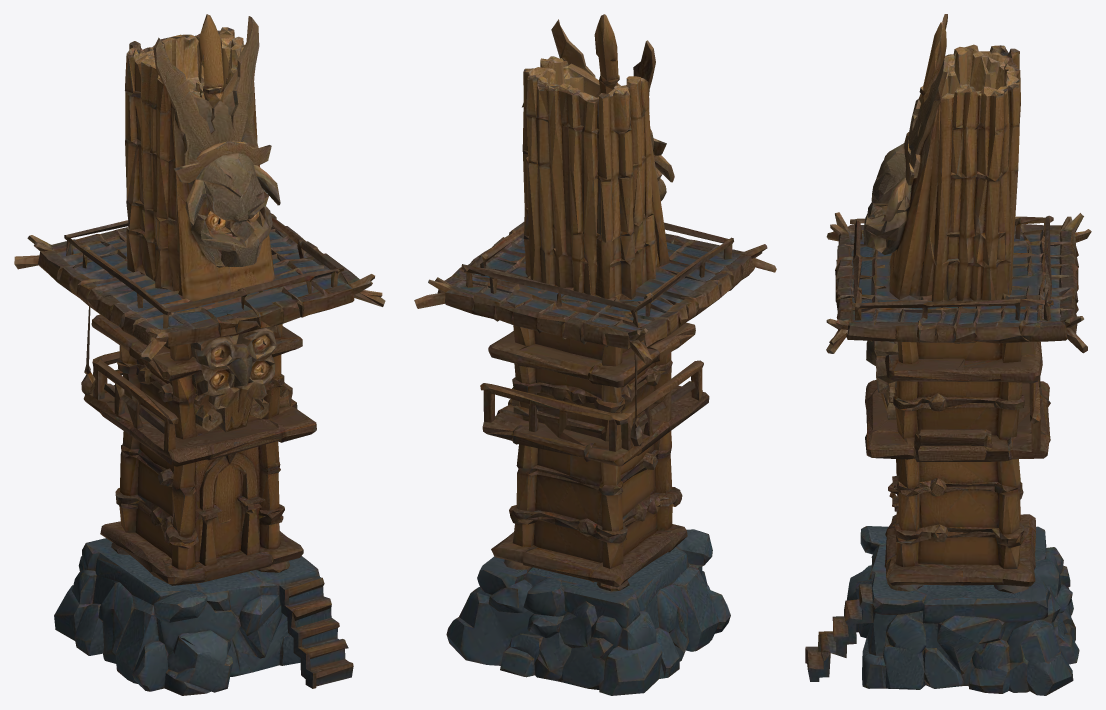
Rendered from watchtower.glb.
The picture shows the model from 3 angles, left to right: view 1: azimuth 30°, elevation 25°; view 2: azimuth 150°, elevation 25°; view 3: azimuth 270°, elevation 25°; orthographic projection. The views are drawn at different scales.
Parts seen in each view (by area): view 1: mesh_node; view 2: mesh_node; view 3: mesh_node.
Part boxes in pixels (x1,y1,x2,y2): mesh_node: (14, 14, 385, 695); mesh_node: (414, 14, 776, 695); mesh_node: (805, 14, 1091, 695).
Bounding box in the file's own units: 0.7708 × 1.9 × 0.7926.
1 material, 1 textured.
